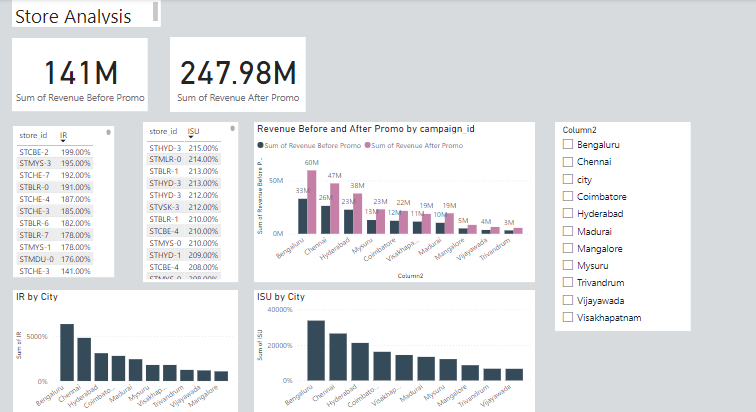

Layout of this report page (visuals, bound fields, positions):
{"tool":"powerbi","page":{"name":"Page 1","canvas":[1280,720],"ordinal":0},"visuals":[{"type":"tableEx","fields":{"Values":["fact_events2.store_id","fact_events2.ISU"]},"box":[243.6,206.6,159.6,268.8],"z":1},{"type":"card","fields":{"Values":["Sum(fact_events2.Revenue Before Promo)"]},"box":[23.5,65.5,228.5,122.6],"z":4},{"type":"card","fields":{"Values":["Sum(fact_events2.Revenue After Promo)"]},"box":[288.9,63.8,228.5,126],"z":5},{"type":"slicer","fields":{"Values":["dim_stores.Column2"]},"box":[935.6,206.6,228.5,351.1],"z":6},{"type":"tableEx","fields":{"Values":["fact_events2.store_id","fact_events2.IR"]},"box":[25.2,213.3,169.7,253.6],"z":7},{"type":"textbox","box":[23.5,0,250.3,47],"z":9},{"type":"clusteredColumnChart","title":"Revenue Before and After Promo by campaign_id","fields":{"Y":["Sum(fact_events2.Revenue Before Promo)","Sum(fact_events2.Revenue After Promo)"],"Category":["dim_stores.Column2"]},"box":[430,206.6,472,268.8],"z":10},{"type":"clusteredColumnChart","title":" IR by City","fields":{"Y":["Sum(fact_events2.IR)"],"Category":["dim_stores.Column2"]},"box":[25.2,488.8,378,231.8],"z":11},{"type":"columnChart","title":" ISU by City","fields":{"Y":["Sum(fact_events2.ISU)"],"Category":["dim_stores.Column2"]},"box":[430,489,472,231],"z":12}]}

Visuals, with their boxes on the page's 1280x720 design canvas (x1, y1, x2, y2). These are canvas units, not pixel positions in the 756x412 screenshot, which may show the page scaled, cropped or inside an application window:
tableEx - fact_events2.store_id x fact_events2.ISU: Rect(244, 207, 403, 475)
card - Sum(fact_events2.Revenue Before Promo): Rect(24, 66, 252, 188)
card - Sum(fact_events2.Revenue After Promo): Rect(289, 64, 517, 190)
slicer - dim_stores.Column2: Rect(936, 207, 1164, 558)
tableEx - fact_events2.store_id x fact_events2.IR: Rect(25, 213, 195, 467)
textbox: Rect(24, 0, 274, 47)
"Revenue Before and After Promo by campaign_id" clusteredColumnChart: Rect(430, 207, 902, 475)
" IR by City" clusteredColumnChart: Rect(25, 489, 403, 721)
" ISU by City" columnChart: Rect(430, 489, 902, 720)
